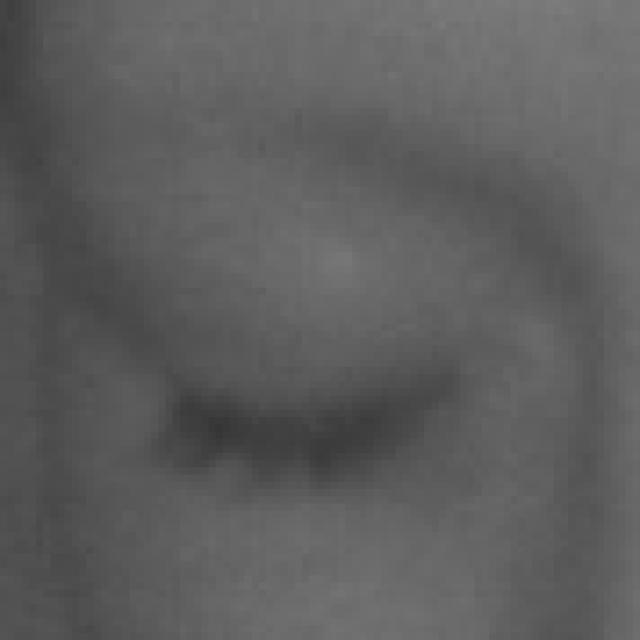Eyeclosed: (178, 262, 470, 622)
